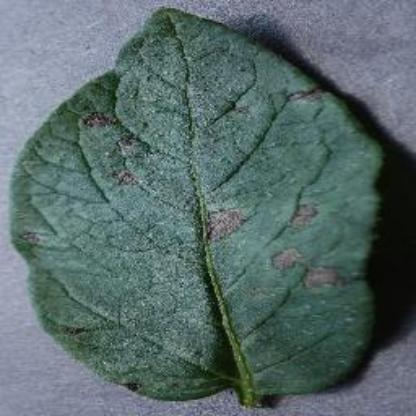Early-Blight: (7, 6, 415, 408)
